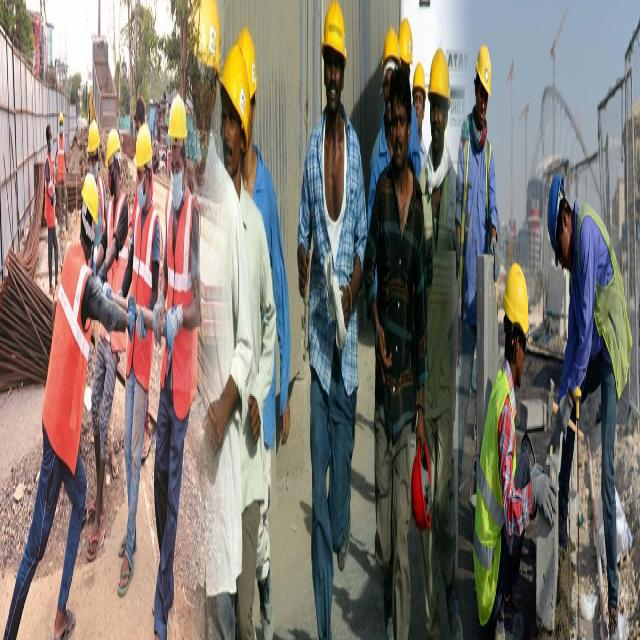Reflective-Jacket: (43, 242, 93, 474), (571, 196, 633, 378), (473, 360, 516, 620), (162, 184, 199, 406), (458, 120, 495, 295), (130, 198, 158, 389), (107, 187, 128, 361), (44, 154, 55, 223), (56, 138, 68, 186)
Safety-Helmet: (219, 24, 258, 140), (545, 164, 567, 267), (194, 0, 222, 78), (503, 256, 530, 336), (321, 0, 348, 64), (428, 41, 452, 106), (474, 39, 493, 97), (168, 90, 188, 145), (82, 170, 100, 224), (135, 122, 153, 171), (399, 12, 413, 62), (87, 116, 101, 156), (106, 128, 121, 164), (412, 55, 425, 94), (45, 118, 52, 138), (59, 108, 66, 127)
